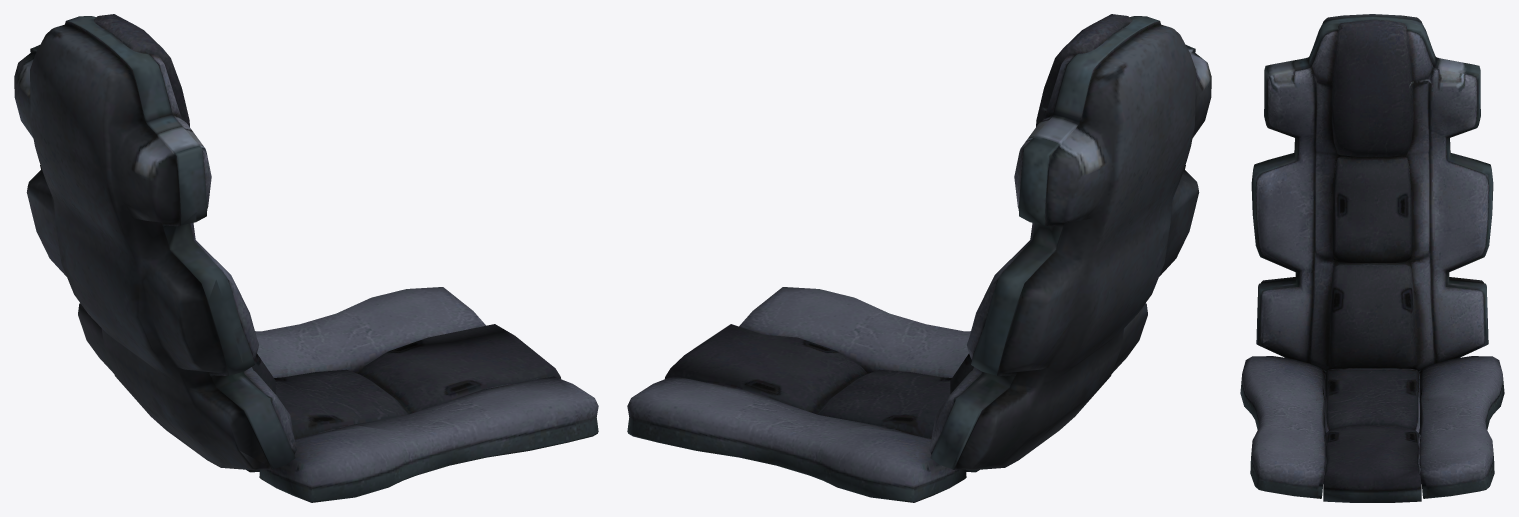
File: Shuttle_Interior_Seat.FBX
3 renders of one model, left to right at view 1: azimuth 30°, elevation 25°; view 2: azimuth 150°, elevation 25°; view 3: azimuth 270°, elevation 25°, orthographic. The views are drawn at different scales.
Parts seen in each view (by area): view 1: Shuttle_Interior_Seat; view 2: Shuttle_Interior_Seat; view 3: Shuttle_Interior_Seat.
Boxes of the visible parts, <box> form: Shuttle_Interior_Seat: <box>14,14,598,502</box>; Shuttle_Interior_Seat: <box>627,14,1211,502</box>; Shuttle_Interior_Seat: <box>1240,14,1504,502</box>.
Size of the model in its own units: 0.8785 by 0.8208 by 0.5849.
